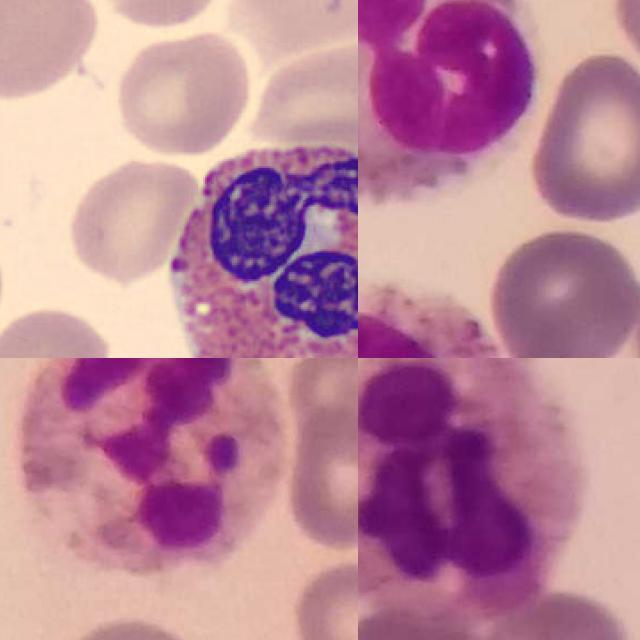Eosinophil: (153, 118, 358, 358), (358, 0, 539, 204), (358, 277, 506, 358)
Neutrophil: (15, 358, 287, 576), (358, 358, 584, 620)
RBC: (63, 156, 205, 286), (111, 31, 253, 159), (244, 32, 358, 155), (0, 0, 102, 104), (226, 0, 358, 62), (0, 302, 116, 358), (89, 0, 233, 30)
